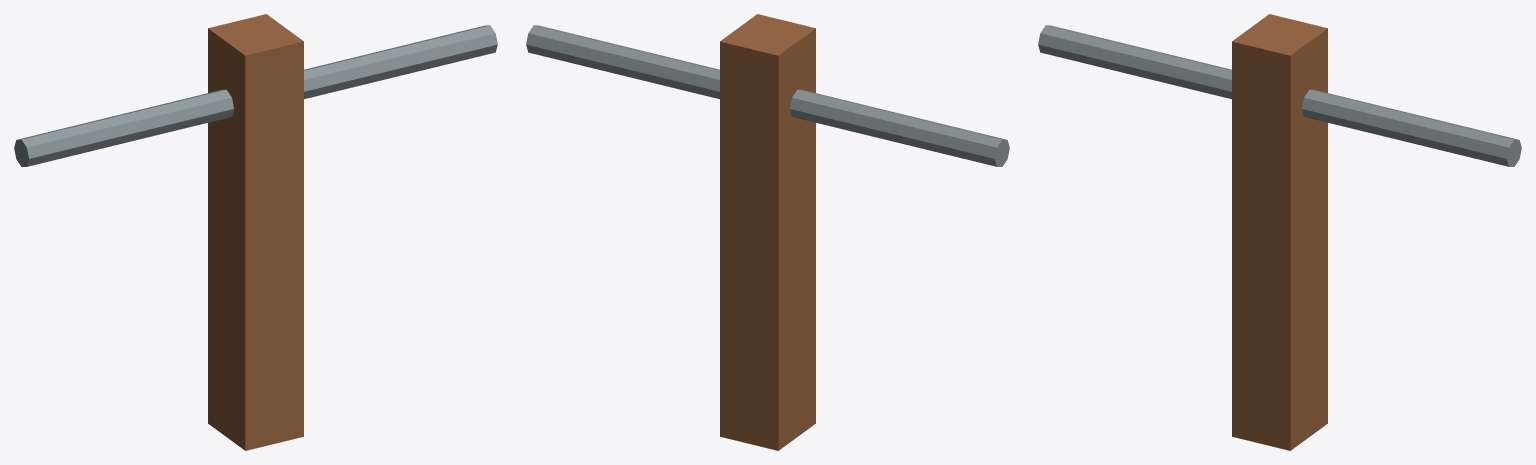
The model's file is wk_prop_crossbow_v01.glb.
3 views of the same model, side by side, from view 1: azimuth 30°, elevation 25°; view 2: azimuth 150°, elevation 25°; view 3: azimuth 330°, elevation 25° (orthographic).
Parts seen in each view (by area): view 1: GEO_CrossbowStock, GEO_CrossbowBow; view 2: GEO_CrossbowStock, GEO_CrossbowBow; view 3: GEO_CrossbowStock, GEO_CrossbowBow.
Boxes of the visible parts, <box> form: GEO_CrossbowStock: <box>208,14,303,450</box>; GEO_CrossbowBow: <box>14,25,497,166</box>; GEO_CrossbowStock: <box>720,14,815,450</box>; GEO_CrossbowBow: <box>526,25,1009,166</box>; GEO_CrossbowStock: <box>1232,14,1327,450</box>; GEO_CrossbowBow: <box>1038,25,1521,166</box>.
Size of the model in its own units: 0.72 by 0.58 by 0.1.
